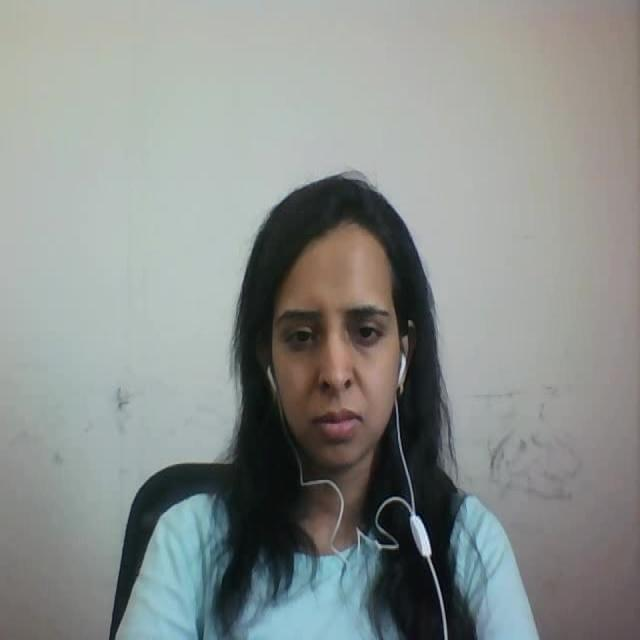Engaged: (208, 144, 500, 475)
